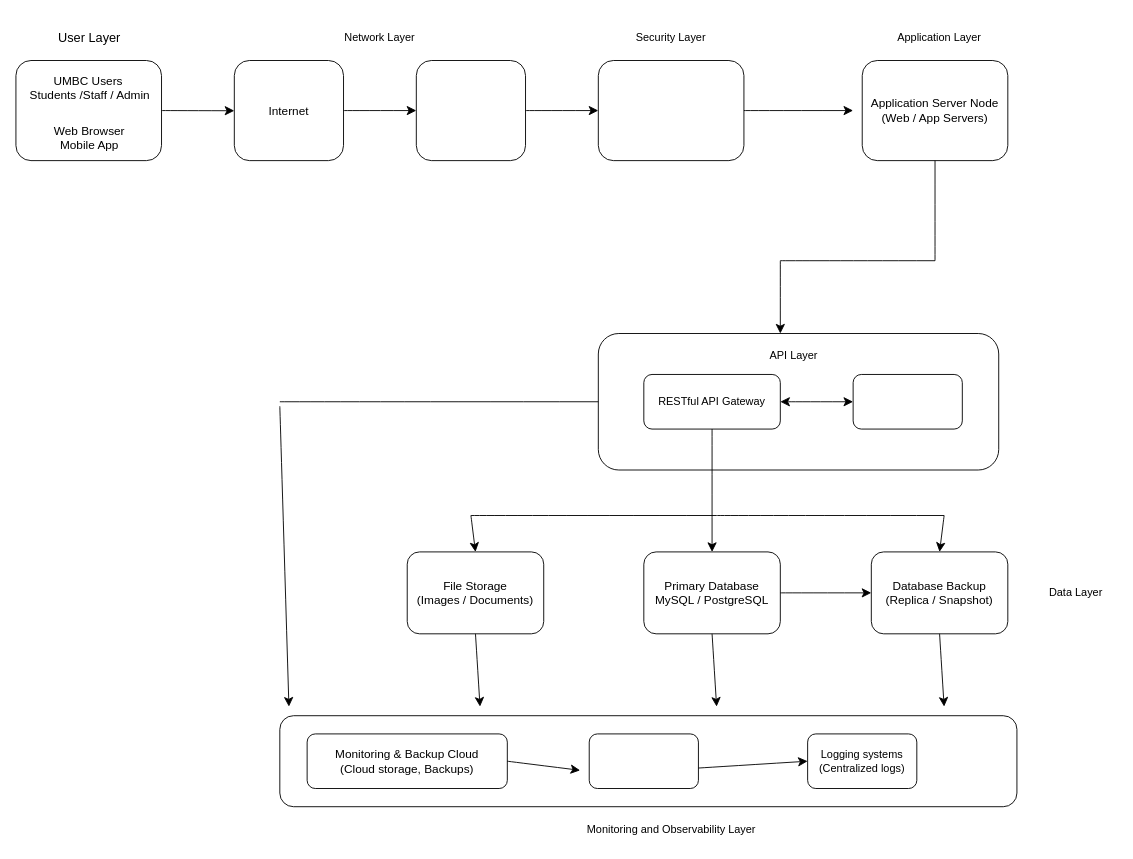
Image size: 1133x859. Some labels were removed from this diagram. Each missing label, with the centre of its shape:
DNS: point 470,110
External Services / Third-party APIs: point 907,401
Load Balancer + Firewall: point 670,110
Monitoring System (Alerts): point 643,761
